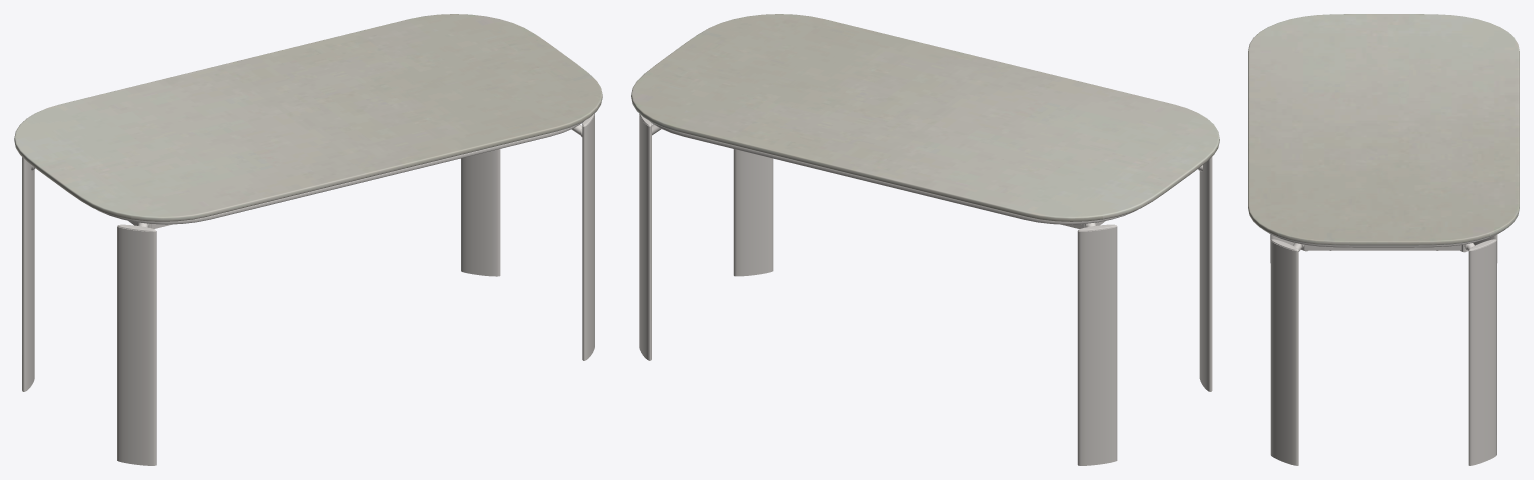
The model's file is BGID02453.glb.
3 renders of one model, left to right at view 1: azimuth 30°, elevation 25°; view 2: azimuth 150°, elevation 25°; view 3: azimuth 270°, elevation 25°, orthographic. The views are drawn at different scales.
Visible parts, largest first — view 1: BP_BGID02453; view 2: BP_BGID02453; view 3: BP_BGID02453.
Boxes of the visible parts, x1=… form: BP_BGID02453: x1=14, y1=14, x2=602, y2=465; BP_BGID02453: x1=631, y1=14, x2=1219, y2=465; BP_BGID02453: x1=1248, y1=14, x2=1519, y2=465.
Bounding box in the file's own units: 1.59 × 0.7514 × 0.7993.
Materials: 3 (1 with a texture image).
